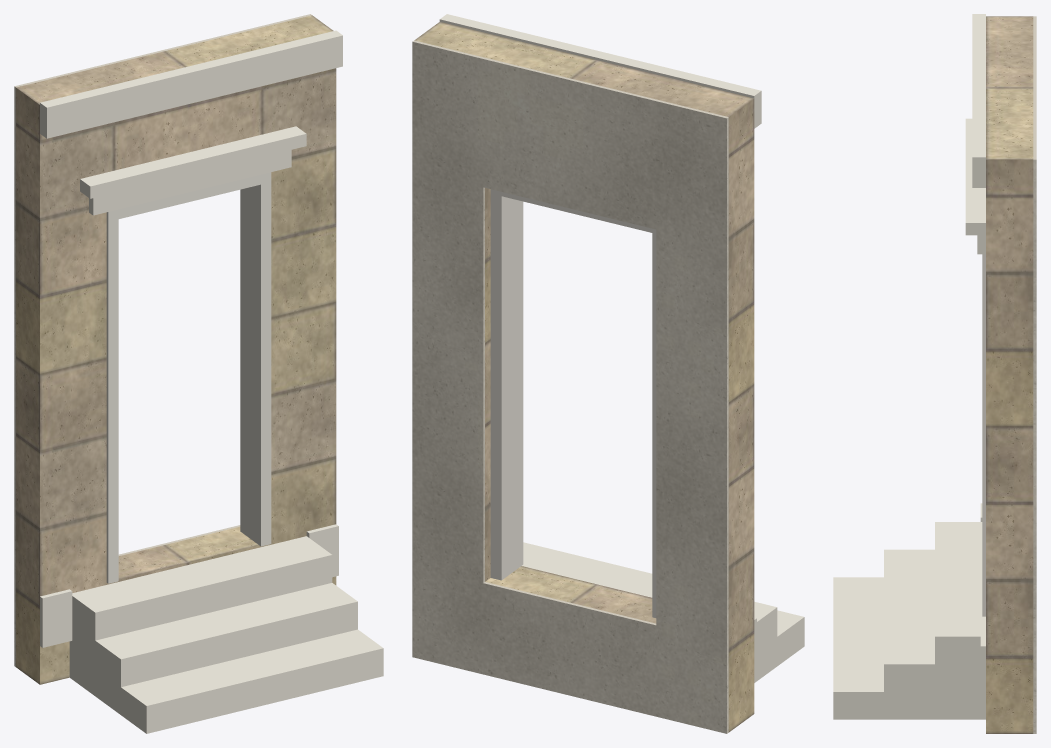
The model's file is wall_ground_rect_door.glb.
3 views of the same model, side by side, from view 1: azimuth 30°, elevation 25°; view 2: azimuth 150°, elevation 25°; view 3: azimuth 270°, elevation 25° (orthographic). The views are drawn at different scales.
Parts seen in each view (by area): view 1: wall_ground_rect_door_rustic, wall_ground_rect_door_trim, wall_ground_rect_door_frame, wall_ground_rect_door_plaster; view 2: wall_ground_rect_door_plaster, wall_ground_rect_door_rustic, wall_ground_rect_door_frame, wall_ground_rect_door_trim; view 3: wall_ground_rect_door_rustic, wall_ground_rect_door_trim, wall_ground_rect_door_plaster, wall_ground_rect_door_frame.
Boxes of the visible parts, x1,y1,x2,y2 form: wall_ground_rect_door_rustic: (16,15,336,684); wall_ground_rect_door_trim: (40,30,383,733); wall_ground_rect_door_frame: (106,172,271,583); wall_ground_rect_door_plaster: (14,14,311,666); wall_ground_rect_door_plaster: (412,40,728,733); wall_ground_rect_door_rustic: (414,22,754,732); wall_ground_rect_door_frame: (490,189,656,617); wall_ground_rect_door_trim: (439,14,804,682); wall_ground_rect_door_rustic: (986,16,1033,733); wall_ground_rect_door_trim: (833,14,985,719); wall_ground_rect_door_plaster: (1033,16,1036,733); wall_ground_rect_door_frame: (982,254,985,616).
Bounding box in the file's own units: 2 × 3.76 × 1.2.
4 materials, 2 textured.
